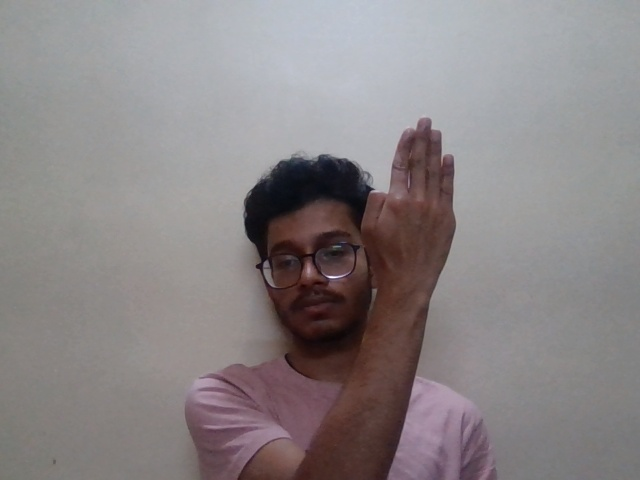good-bye: (359, 103, 473, 318)
